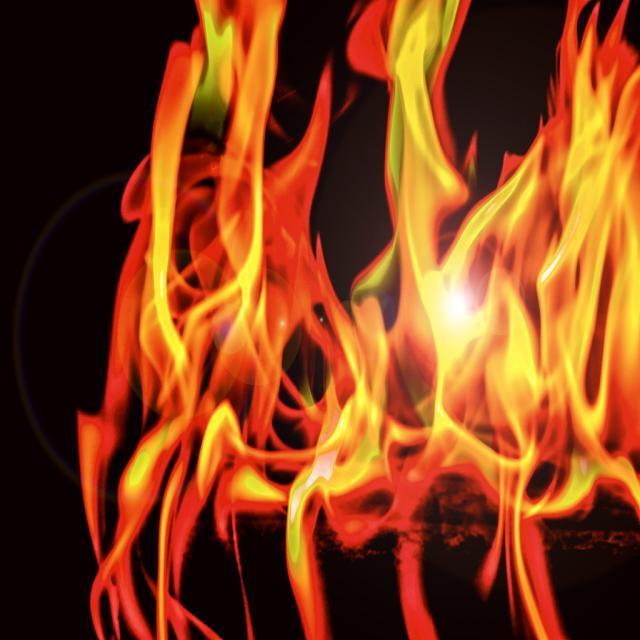Fire: (130, 13, 284, 504), (392, 202, 526, 480), (552, 50, 636, 465)
